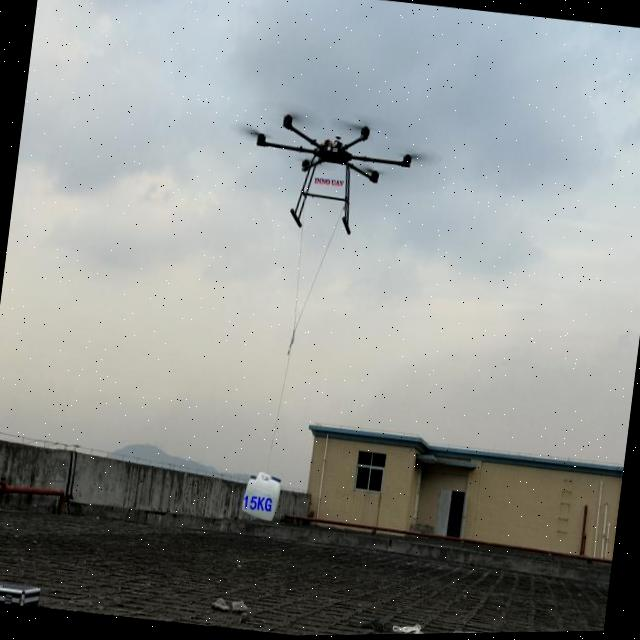drone: (228, 85, 433, 238)
